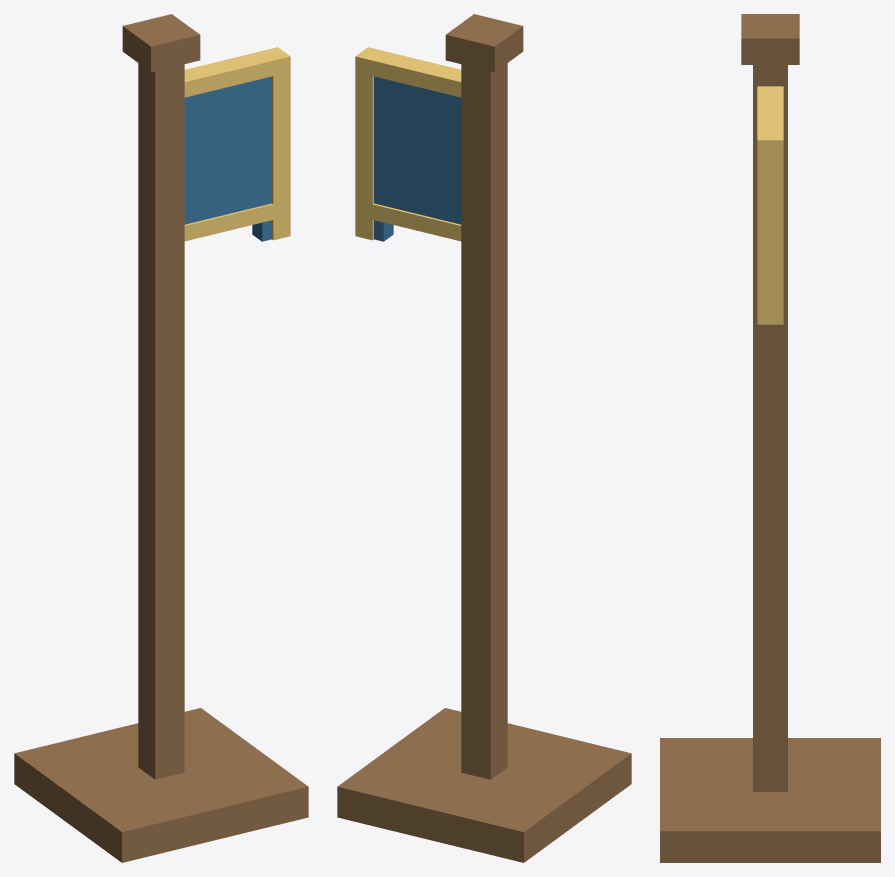
The model's file is settlement_flag.glb.
3 renders of one model, left to right at view 1: azimuth 30°, elevation 25°; view 2: azimuth 150°, elevation 25°; view 3: azimuth 270°, elevation 25°, orthographic. The views are drawn at different scales.
Visible parts, largest first — view 1: Settlement Flag; view 2: Settlement Flag; view 3: Settlement Flag.
Boxes of the visible parts, x1,y1,x2,y2 form: Settlement Flag: [14, 14, 308, 862]; Settlement Flag: [337, 14, 631, 862]; Settlement Flag: [660, 14, 880, 862].
Size of the model in its own units: 0.88 by 3 by 0.76.
